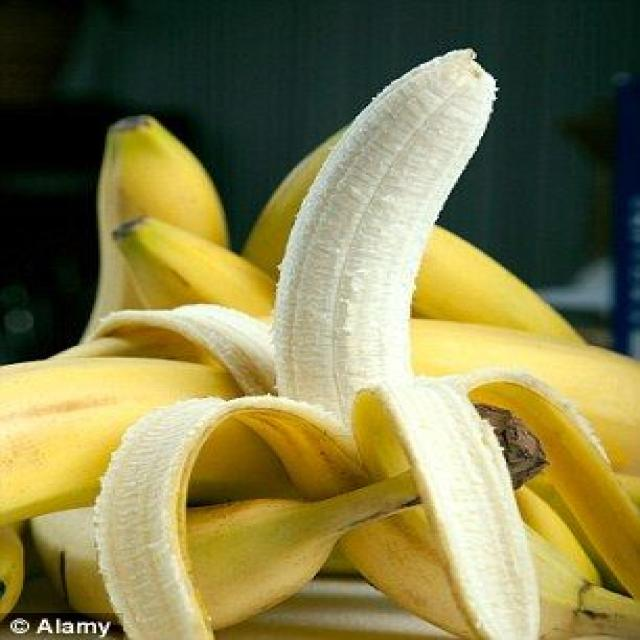banana: (99, 53, 639, 639), (274, 53, 539, 639), (99, 399, 363, 639), (0, 306, 273, 524), (0, 358, 240, 524), (187, 473, 418, 628), (187, 474, 416, 628), (410, 320, 639, 473), (86, 116, 227, 332), (413, 226, 583, 344), (113, 217, 276, 315), (243, 132, 343, 280), (517, 488, 600, 584), (0, 525, 25, 621)
